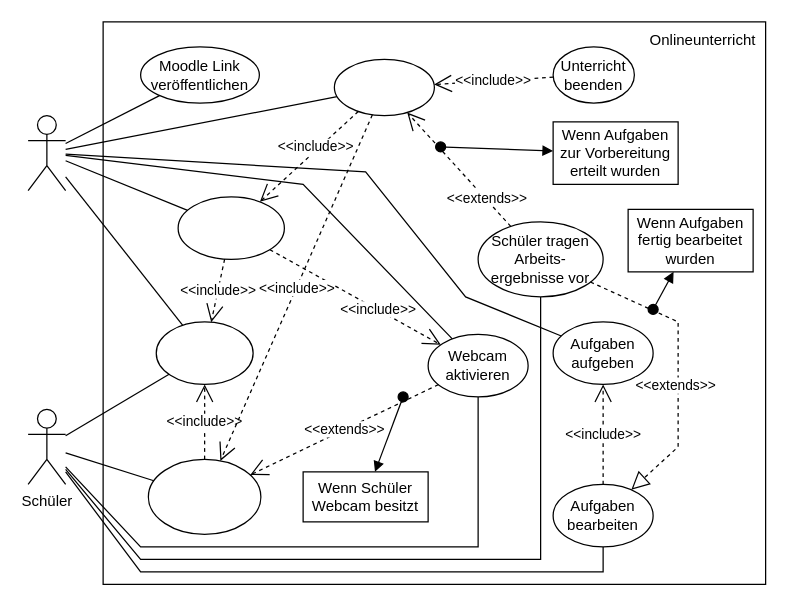
Some shapes in this 788 by 606 pixel diagram are drawn without their labels. Each missing label, with the centre of its shape:
Lehrer: the point at 46,152
Mikrofon aktivieren: the point at 204,352
Online-Unter- richt starten: the point at 230,227
Unterricht durchführen: the point at 383,87
Zum Online- Unterricht einloggen: the point at 204,496
